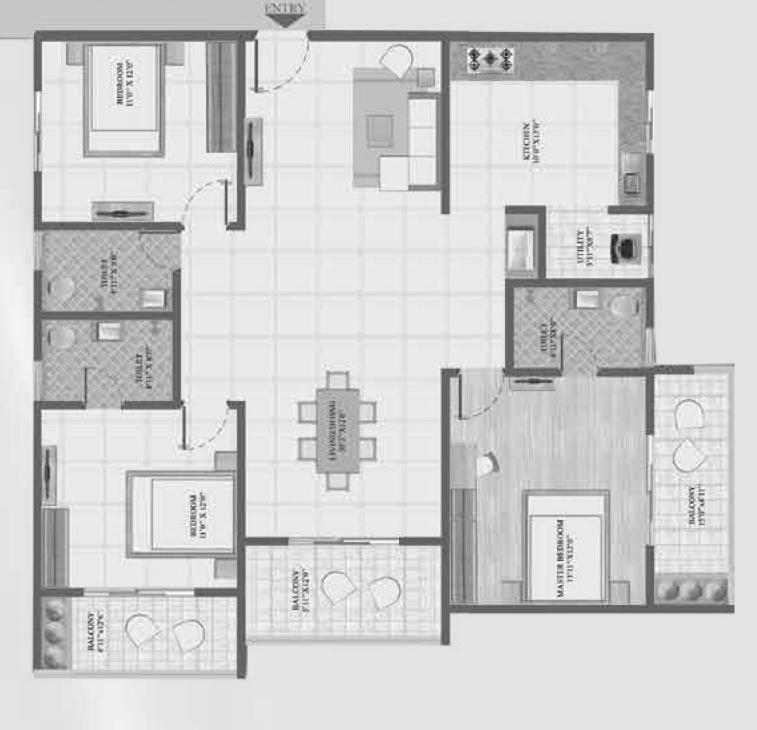Balcony: (242, 543, 446, 639), (651, 369, 731, 612), (37, 592, 242, 673)
Bed: (525, 493, 608, 606), (86, 44, 163, 157), (127, 476, 236, 553)
Bedroom: (449, 371, 651, 615), (40, 405, 240, 592), (41, 37, 239, 224)
Dining Room: (246, 215, 539, 540)
Dining table: (289, 367, 382, 501)
Kitchen: (450, 42, 649, 210)
Living Room: (241, 35, 444, 215)
Sofa: (406, 92, 439, 183), (381, 158, 437, 191)
Wardrobe: (449, 485, 480, 605), (207, 43, 233, 156), (42, 511, 71, 590)
commode: (42, 327, 79, 347), (609, 295, 638, 320), (42, 277, 75, 298)
door: (248, 32, 312, 91), (175, 401, 235, 454), (457, 366, 507, 421), (178, 177, 227, 229), (642, 434, 663, 548), (82, 360, 127, 408), (286, 534, 401, 551), (561, 333, 604, 378), (140, 232, 185, 272), (83, 588, 195, 603)
kitchen-slab: (447, 41, 648, 81), (615, 44, 650, 201)
sink: (619, 151, 644, 200), (507, 228, 532, 271), (92, 321, 123, 345), (138, 288, 167, 308), (574, 292, 599, 309)
stove: (466, 48, 513, 74)
toilet: (39, 225, 179, 314), (509, 283, 651, 370), (39, 316, 176, 405)
tv: (38, 446, 58, 506), (244, 118, 261, 184), (90, 203, 149, 219), (508, 376, 556, 390)
utility: (542, 214, 652, 281)
washing-machine: (609, 234, 643, 264)
